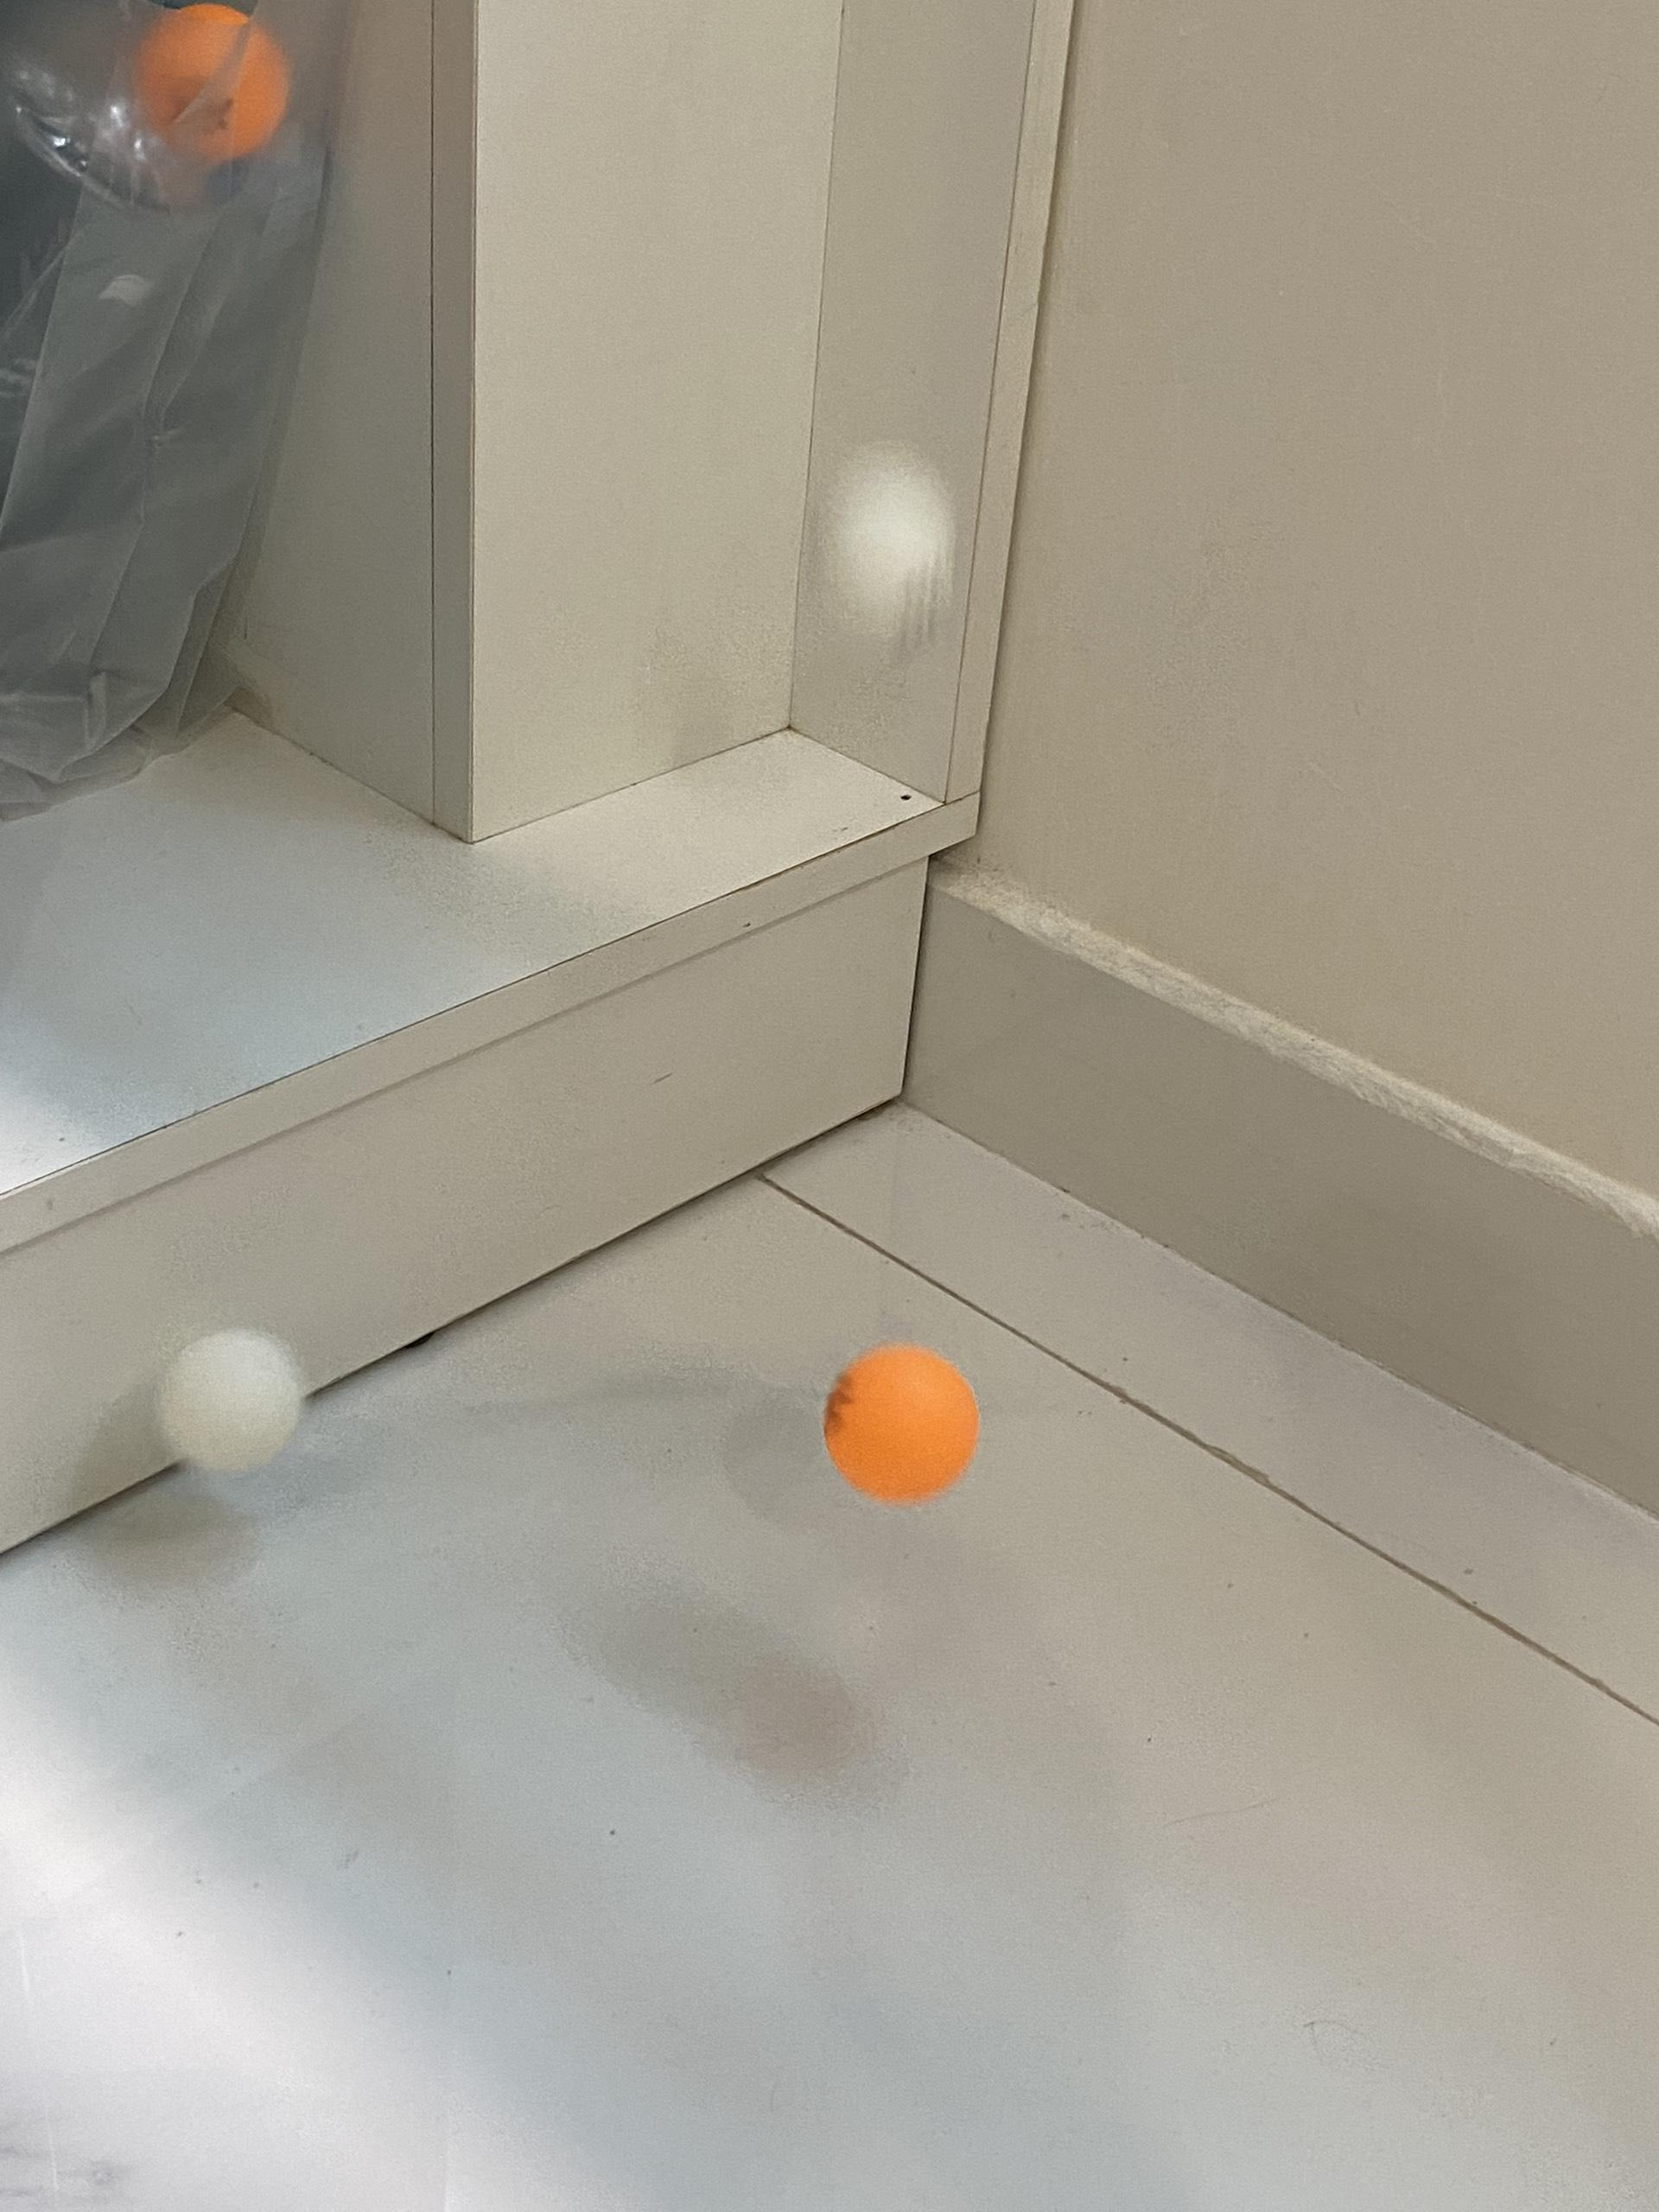oball: (817, 470, 950, 665), (826, 1345, 976, 1498), (132, 3, 279, 158), (153, 1334, 296, 1468)
